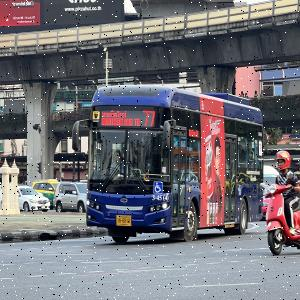Bus Line Number: (141, 108, 158, 128)
Bus Side Number: (151, 192, 169, 203)
Destination Sign: (100, 108, 142, 127)
TSB-Bus: (86, 85, 264, 245)
